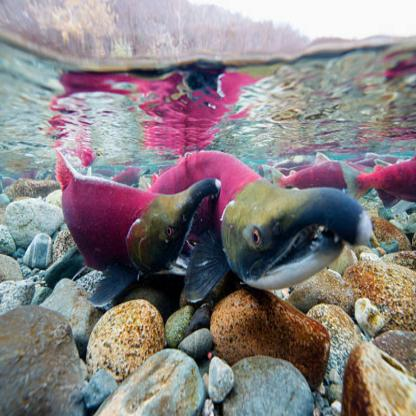sockeye: (143, 151, 347, 287), (57, 153, 203, 269)
